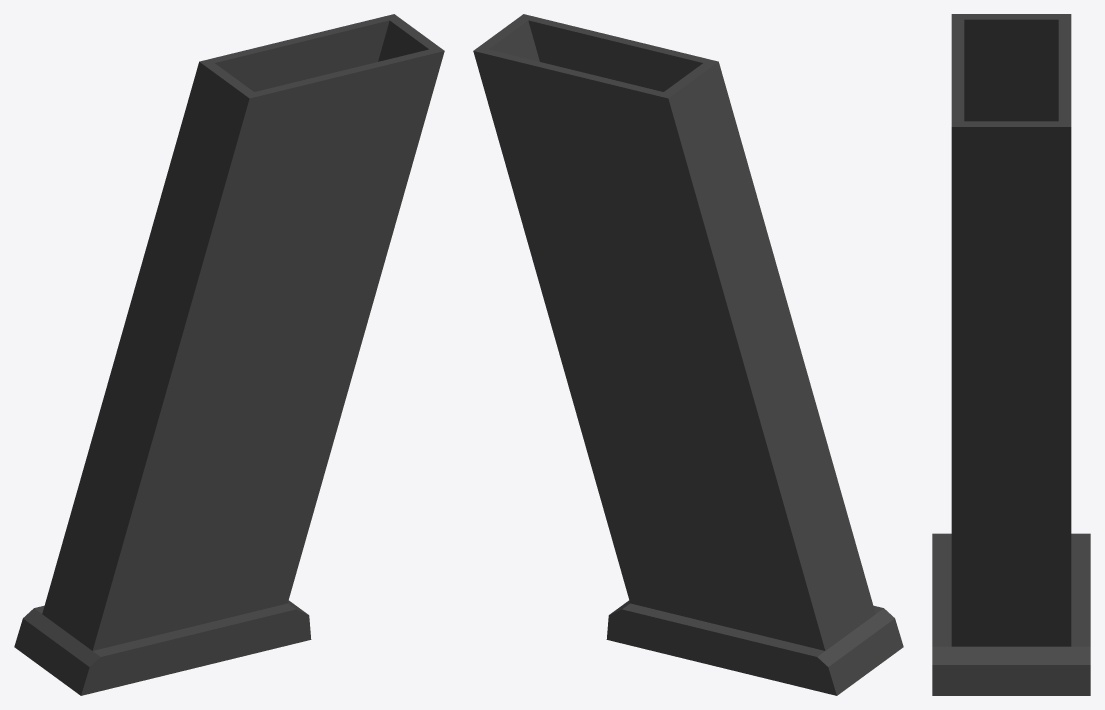
File: Pistol4_04_4.fbx
3 renders of one model, left to right at view 1: azimuth 30°, elevation 25°; view 2: azimuth 150°, elevation 25°; view 3: azimuth 270°, elevation 25°, orthographic. The views are drawn at different scales.
Visible parts, largest first — view 1: Pistol4_04_4; view 2: Pistol4_04_4; view 3: Pistol4_04_4.
Part boxes in pixels (x1,y1,x2,y2): Pistol4_04_4: (14, 14, 444, 695); Pistol4_04_4: (473, 14, 903, 695); Pistol4_04_4: (932, 14, 1090, 695).
Size of the model in its own units: 0.0778 by 0.1096 by 0.0242.
